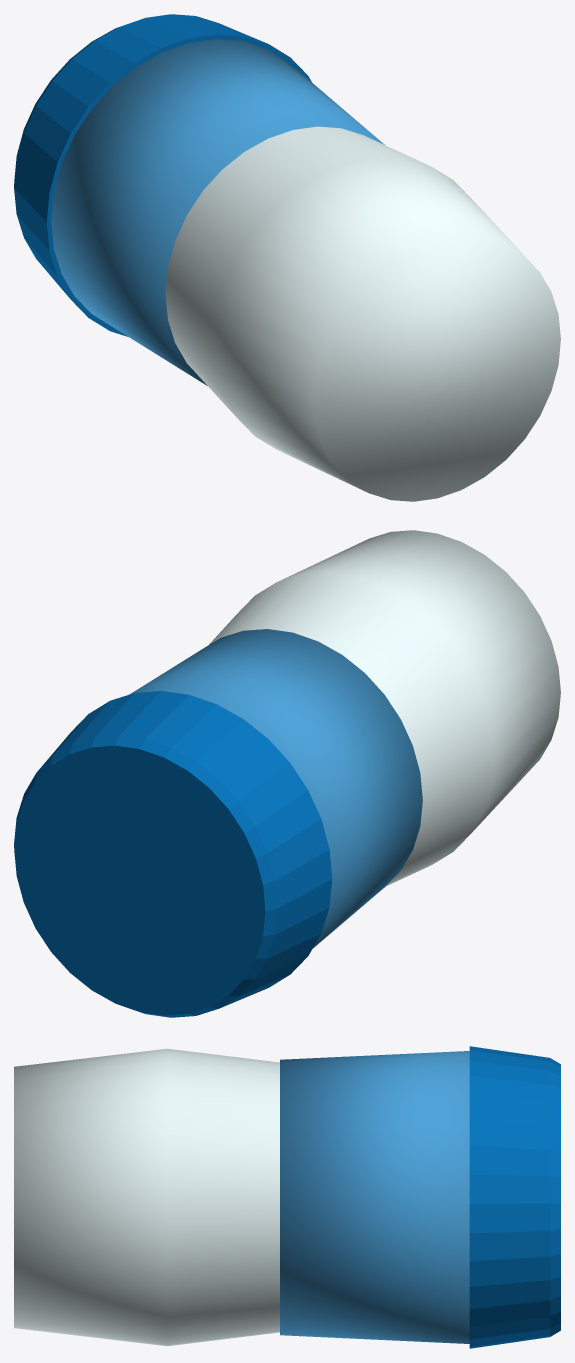
Rendered from sugar.fbx.
3 renders of one model, top to bottom at view 1: azimuth 30°, elevation 25°; view 2: azimuth 150°, elevation 25°; view 3: azimuth 270°, elevation 25°, orthographic. The views are drawn at different scales.
Parts seen in each view (by area): view 1: Cylinder.004; view 2: Cylinder.004; view 3: Cylinder.004.
Boxes of the visible parts, <box> form: Cylinder.004: <box>14,14,560,501</box>; Cylinder.004: <box>14,530,560,1017</box>; Cylinder.004: <box>14,1046,560,1348</box>.
Size of the model in its own units: 188 by 340 by 188.
